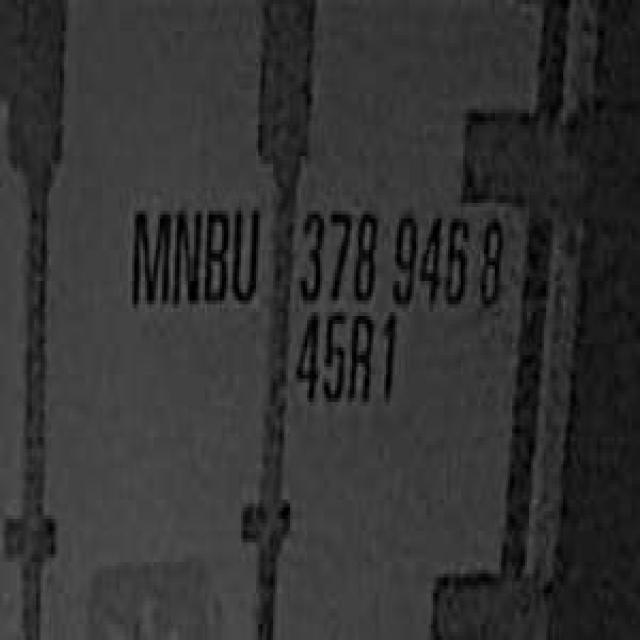dv: (471, 203, 508, 316)
owner: (124, 183, 262, 320)
serial: (294, 191, 472, 316)
size: (290, 300, 403, 418)
